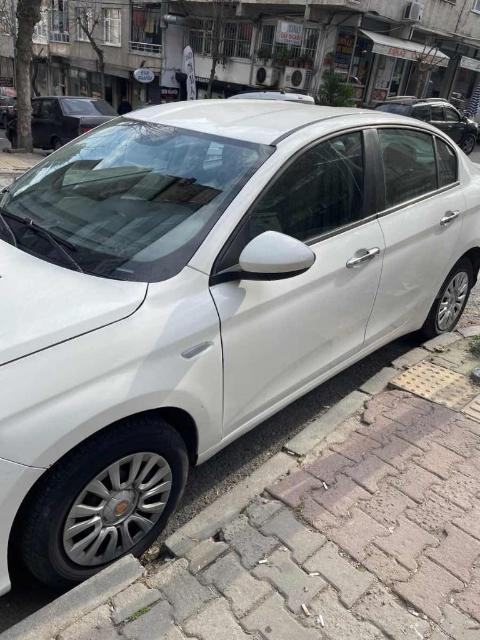scratch: (41, 463, 53, 469), (199, 405, 205, 410)
